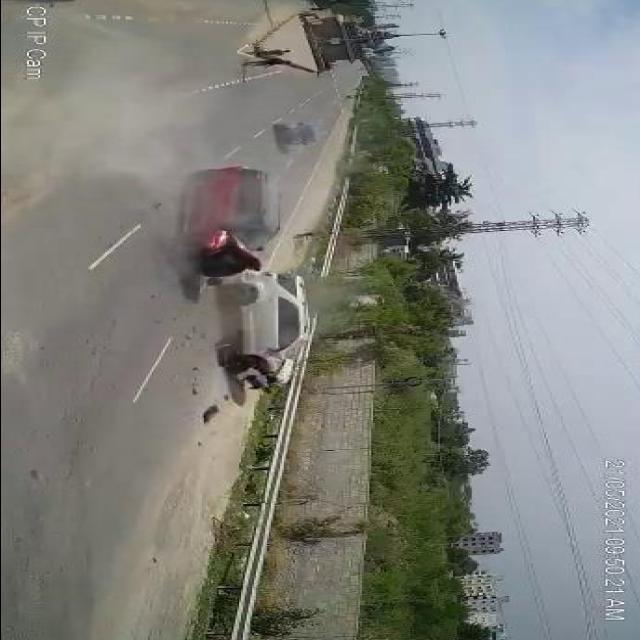accident: (153, 154, 333, 423)
